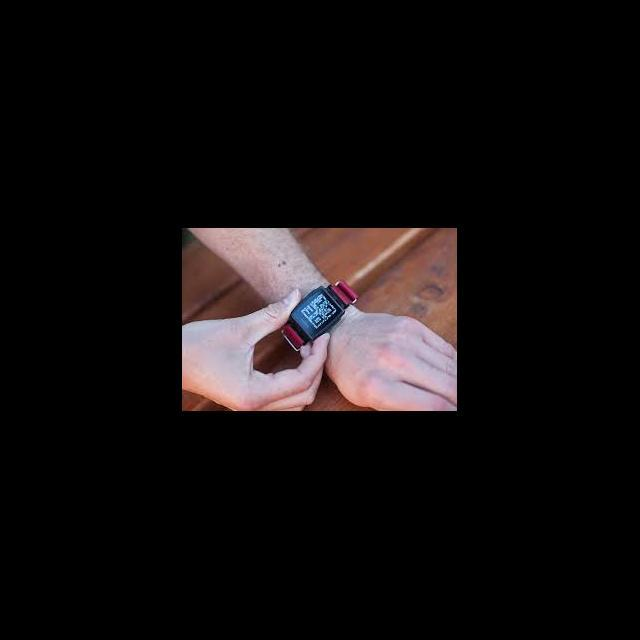watch: (287, 275, 358, 345)
